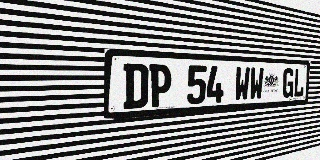4: (206, 66, 224, 103)
5: (187, 65, 207, 105)
D: (123, 63, 148, 109)
G: (282, 68, 295, 98)
L: (293, 68, 305, 97)
P: (149, 64, 172, 107)
W: (234, 67, 250, 101), (249, 67, 264, 100)
